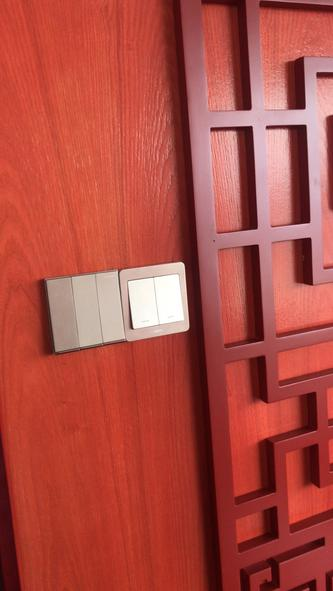switch: (65, 271, 108, 351), (92, 264, 129, 348), (45, 274, 81, 356), (147, 271, 187, 326), (125, 273, 160, 332)
